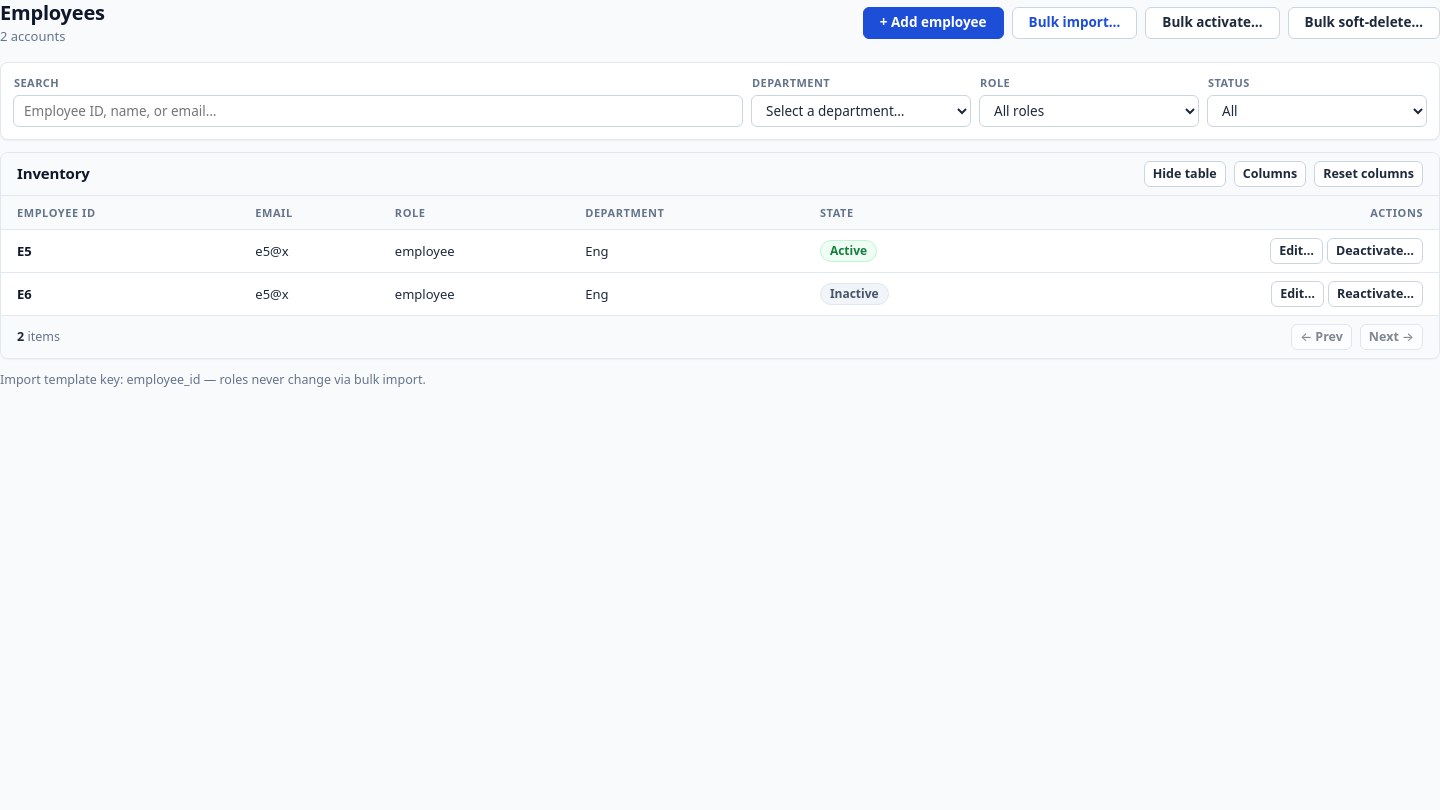
Test: Users row actions › surfaces edit validation errors and stays open
This screenshot has width=1440, height=810.
Expected: the link "E5" is shown, [17,242,32,260]
Click the 1st button "Edit…". click: (1296, 251)
box: [1270,238,1323,264]
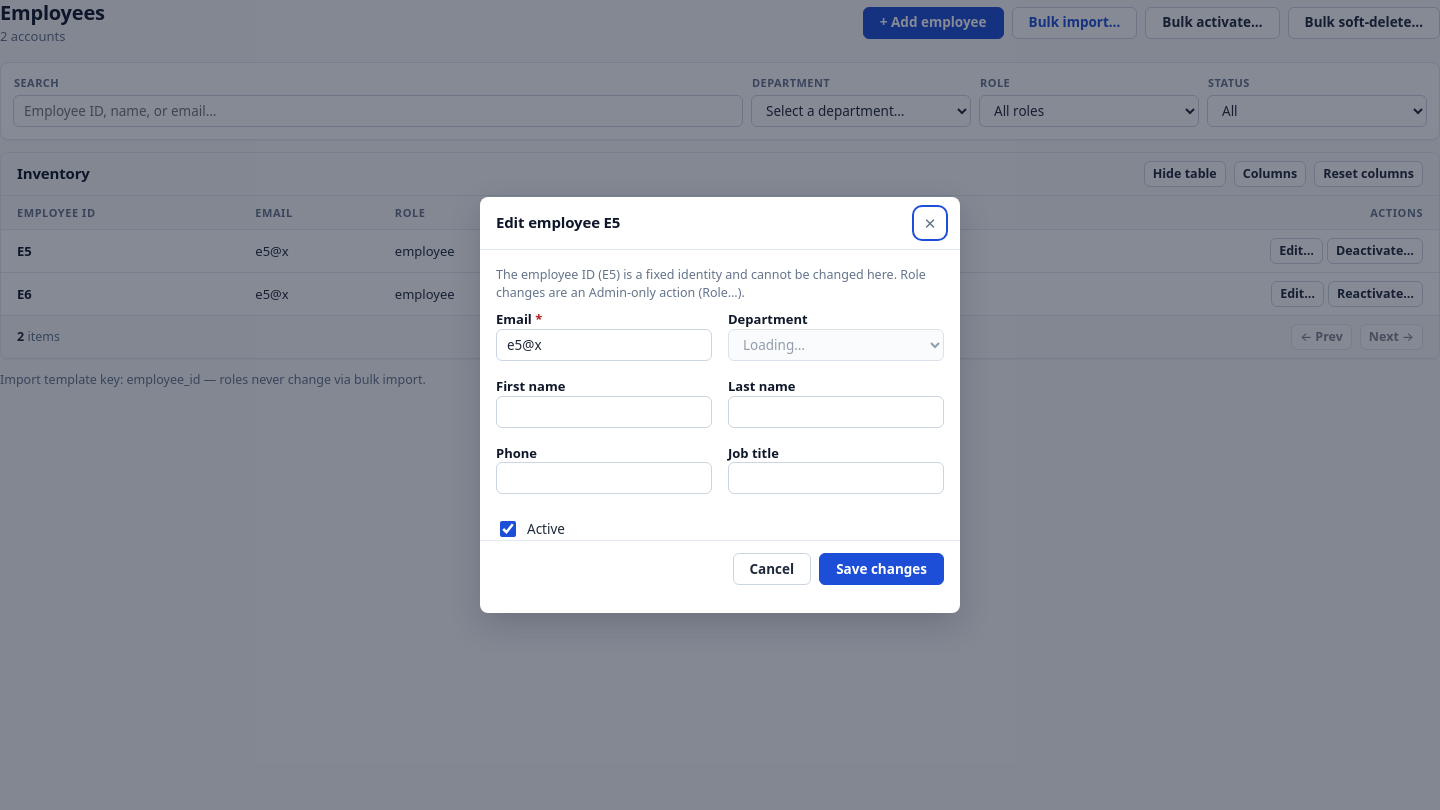
Click the button "Save changes". click: (882, 569)
box: [819,553,944,585]
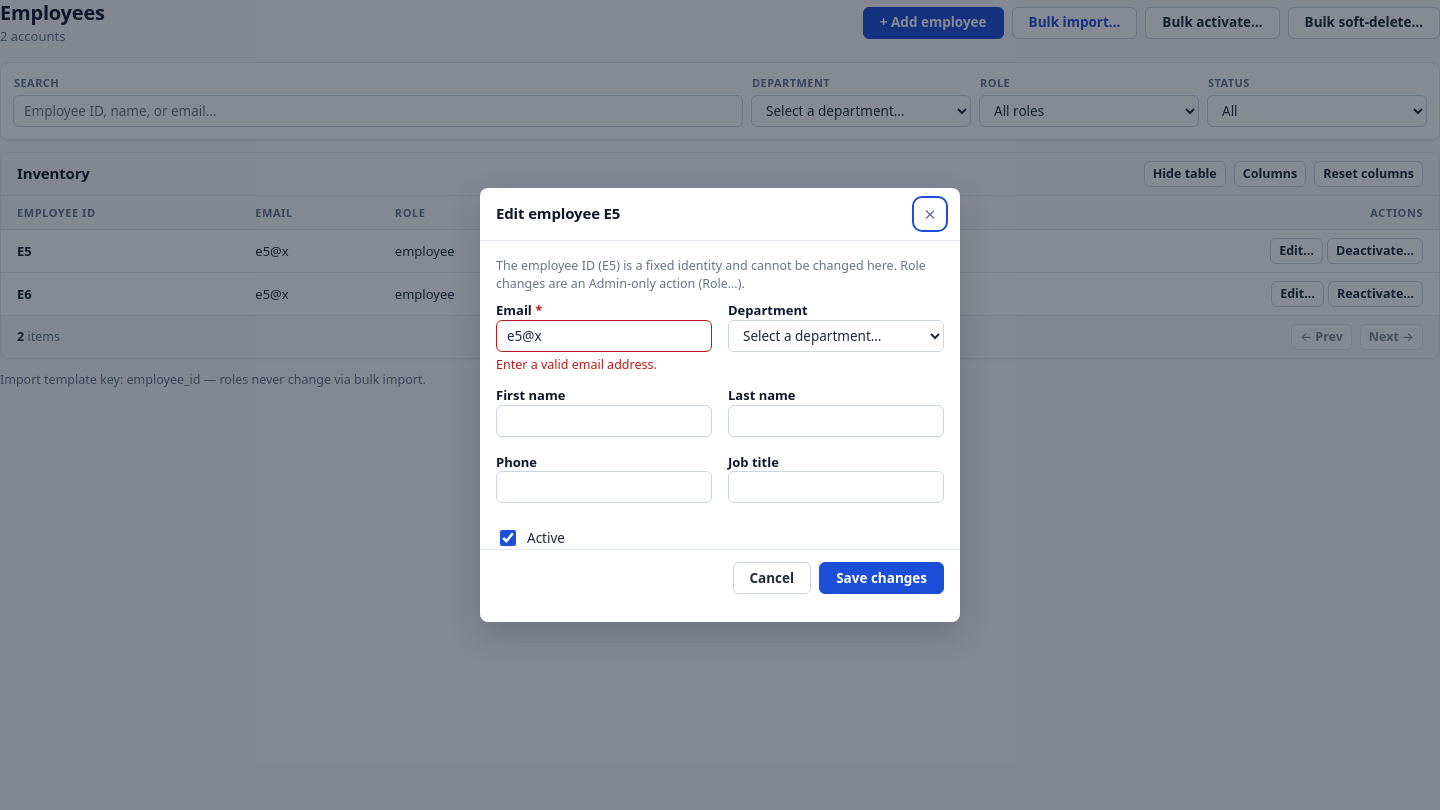
Expected: the button "Save changes" is shown, [819,562,944,594]
Expected: the text "Enter a valid email address." is shown, [496,356,657,373]
